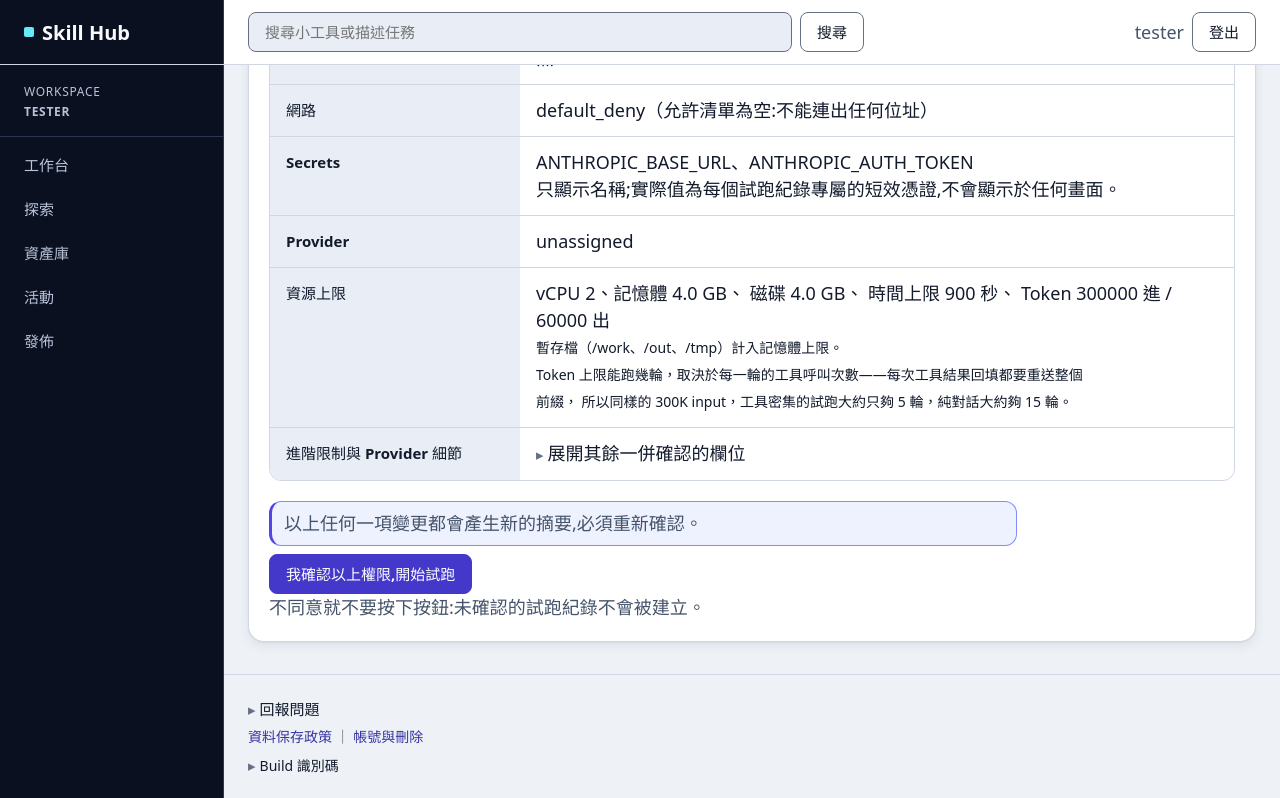
Test case: a 503 on run-start leaves the outcome unconfirmed without exposing the server message
The image size is (1280, 798).
(page scrolled)
Click the button "我確認以上權限,開始試跑". click: [371, 574]
box: [269, 554, 472, 594]
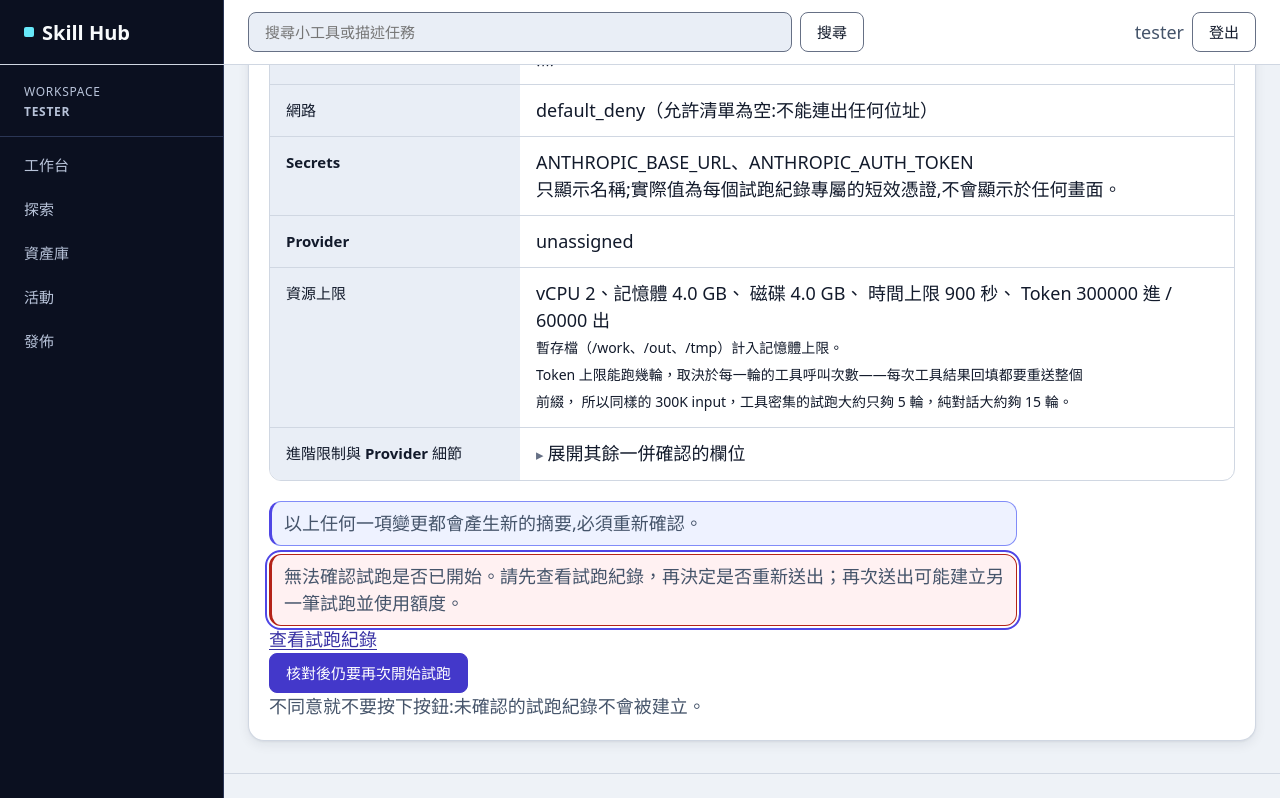
Now the text "無法確認試跑是否已開始。" is shown, box [284, 564, 1004, 614]
